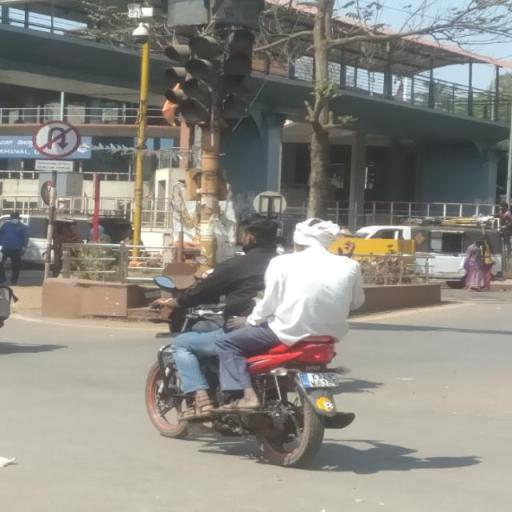bike: (142, 200, 373, 464)
numberplate: (294, 364, 346, 392)
withouthelmet: (295, 219, 339, 250), (237, 216, 277, 250)
